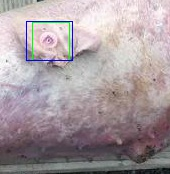text: (32, 22, 69, 60)
